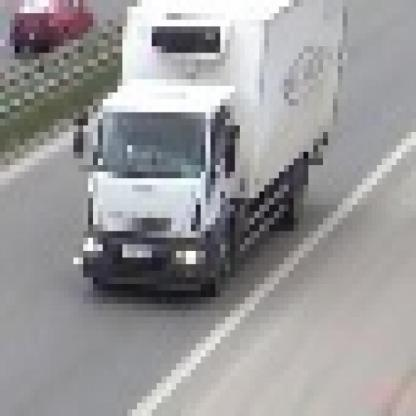truck: (69, 1, 344, 292)
